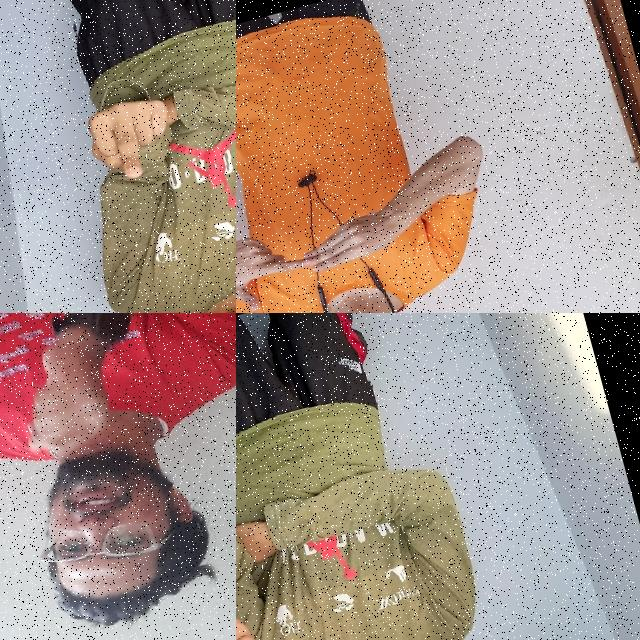Fist Mouth: (0, 313, 236, 635)
Five Fathers: (236, 176, 429, 313)
Middle Finger: (75, 78, 187, 191)
